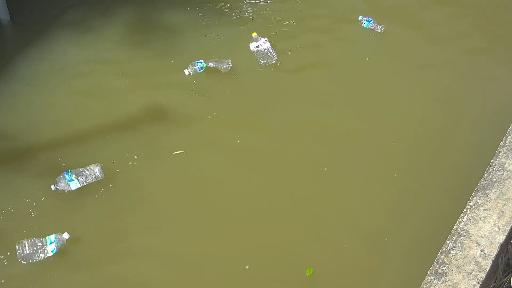leaf: (303, 266, 317, 277)
plastic: (241, 26, 293, 69), (182, 44, 240, 77), (8, 236, 74, 261), (47, 170, 109, 192), (352, 12, 401, 34)
